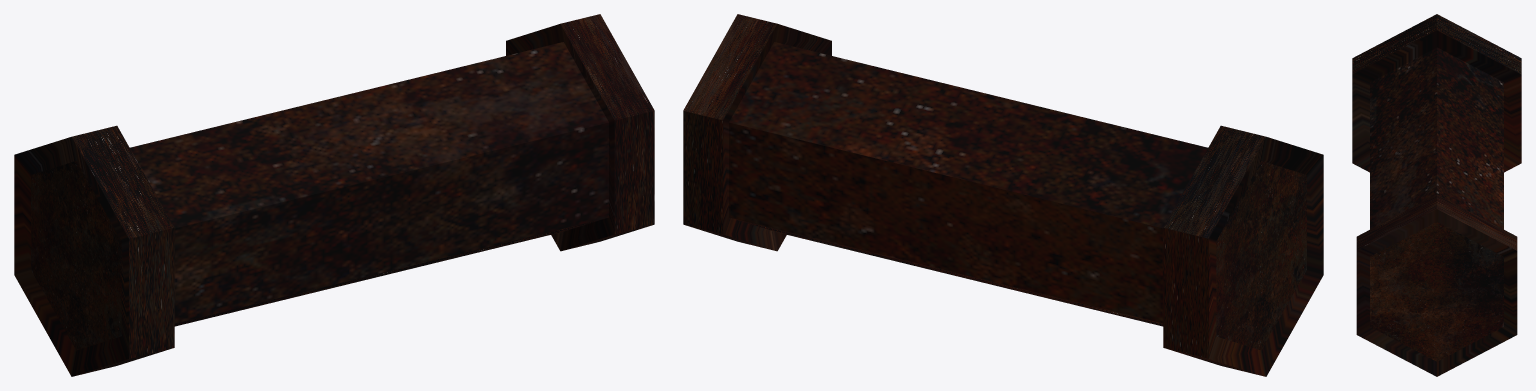
The model's file is Straight_Pipe.fbx.
3 views of the same model, side by side, from view 1: azimuth 30°, elevation 25°; view 2: azimuth 150°, elevation 25°; view 3: azimuth 270°, elevation 25° (orthographic). The views are drawn at different scales.
Parts seen in each view (by area): view 1: Pipe21; view 2: Pipe21; view 3: Pipe21.
Boxes of the visible parts, bbox=[...] form: Pipe21: bbox=[14, 14, 654, 376]; Pipe21: bbox=[683, 14, 1323, 376]; Pipe21: bbox=[1352, 14, 1521, 376].
Bounding box in the file's own units: 0.844 × 0.3665 × 0.3174.
